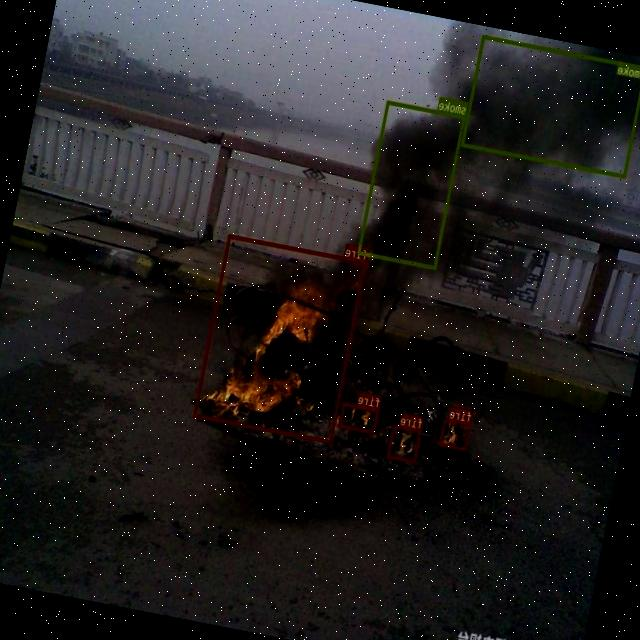fire: (194, 234, 368, 443), (387, 424, 423, 463), (339, 402, 380, 434), (438, 418, 472, 451)
smoke: (462, 35, 640, 178), (358, 100, 466, 268)
